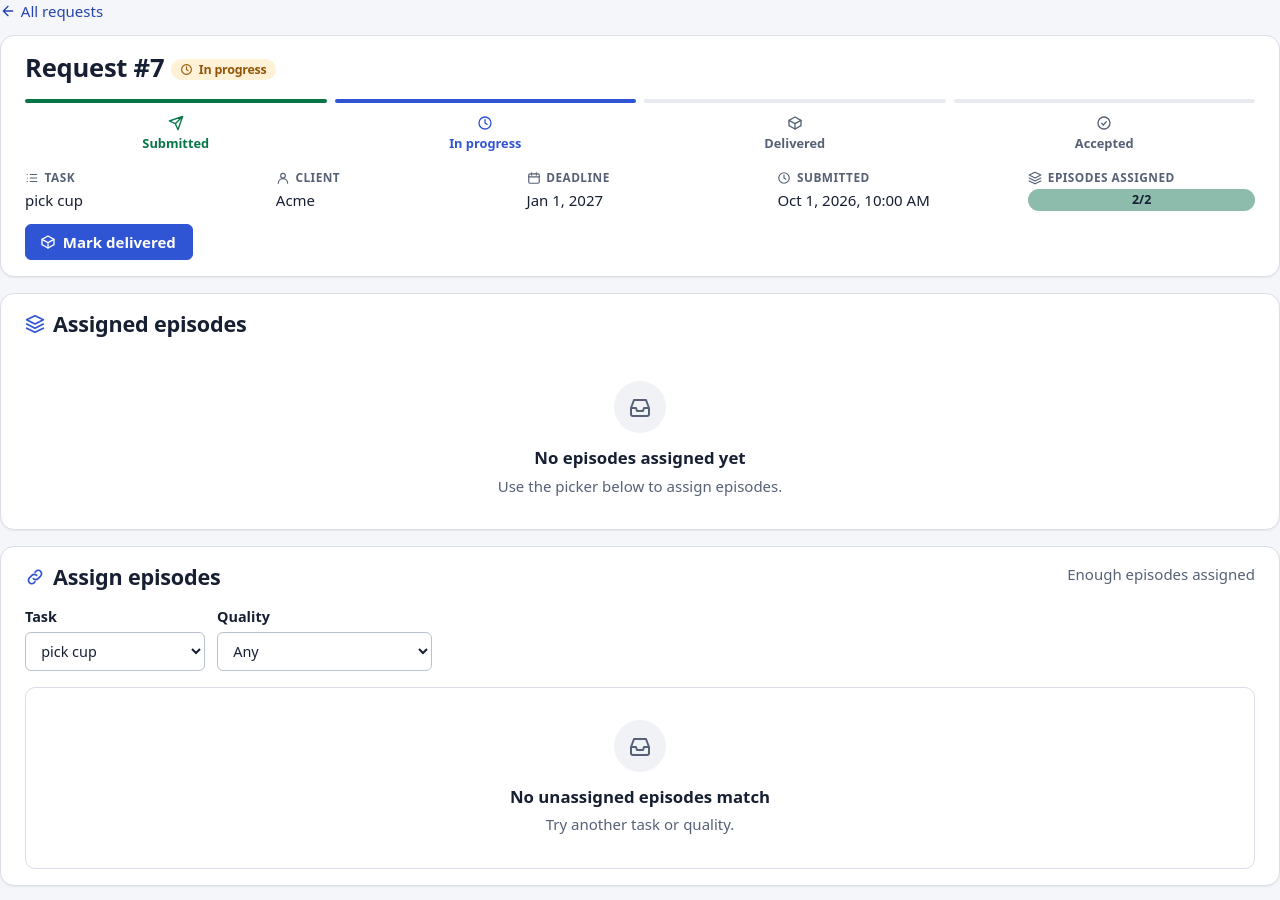
Test: RequestDetail (rules come from the server, the UI just reflects them) › enables delivery once the quota is met and sends the transition
Click the button "Mark delivered".
click(109, 242)  # box [25,224,193,260]
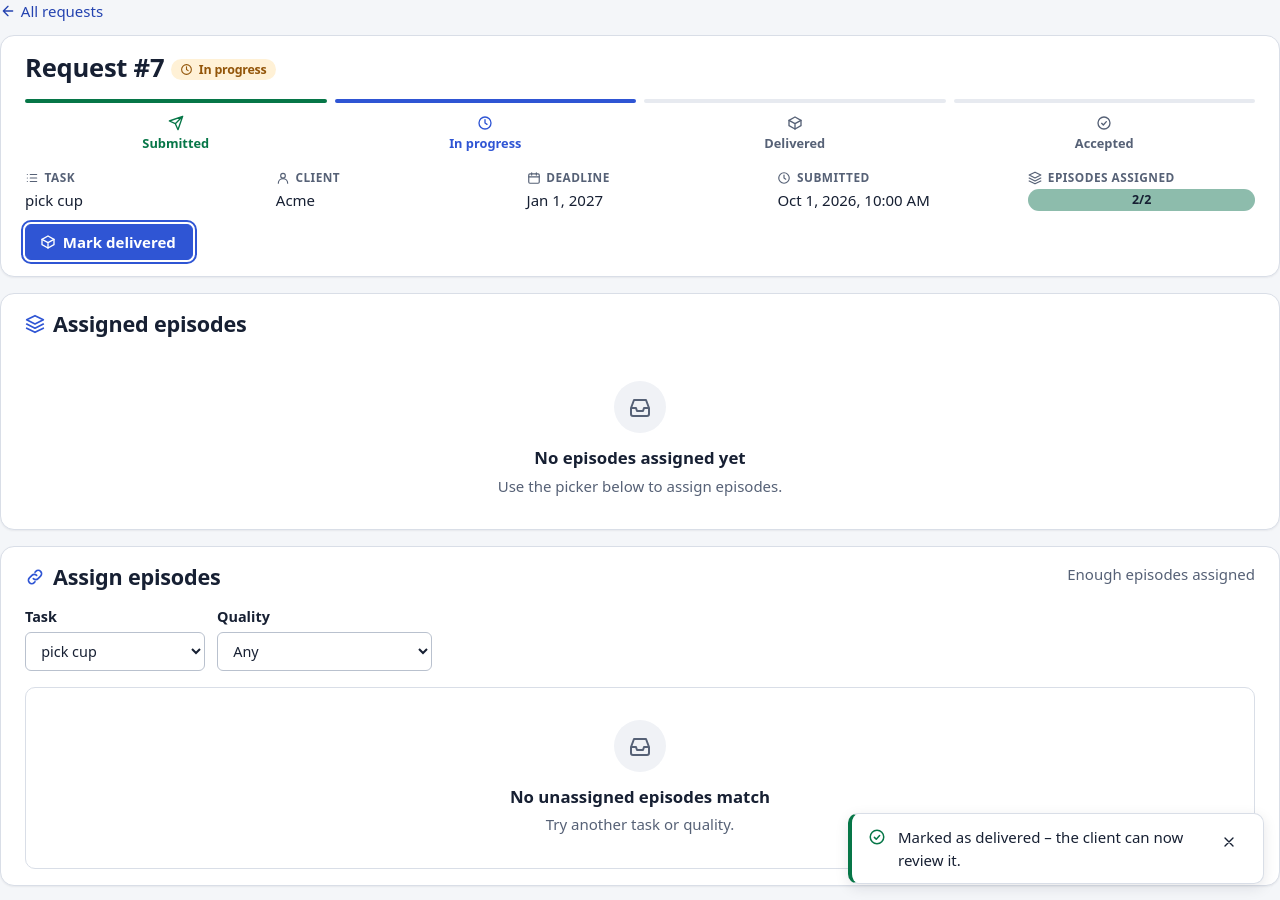
Result: the text "Marked as delivered – the client can now review it." is shown at [898,826,1199,871]
